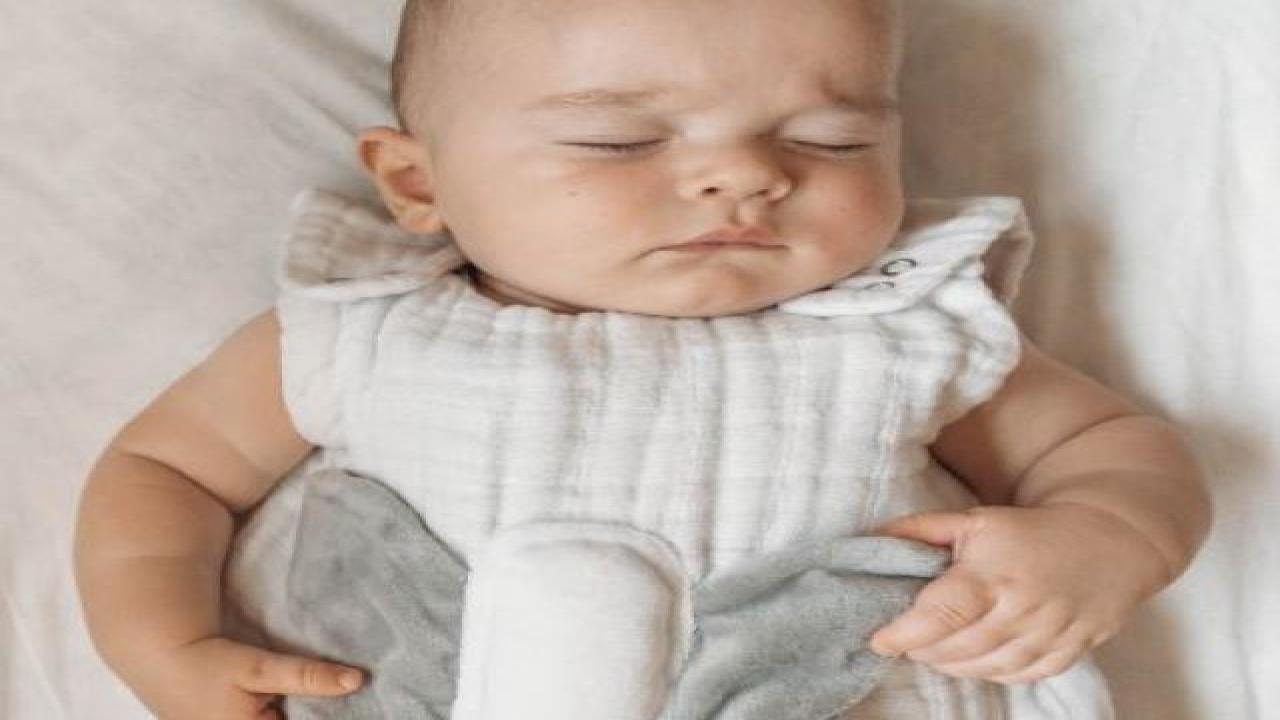hand: (868, 502, 1146, 684), (126, 640, 366, 720)
